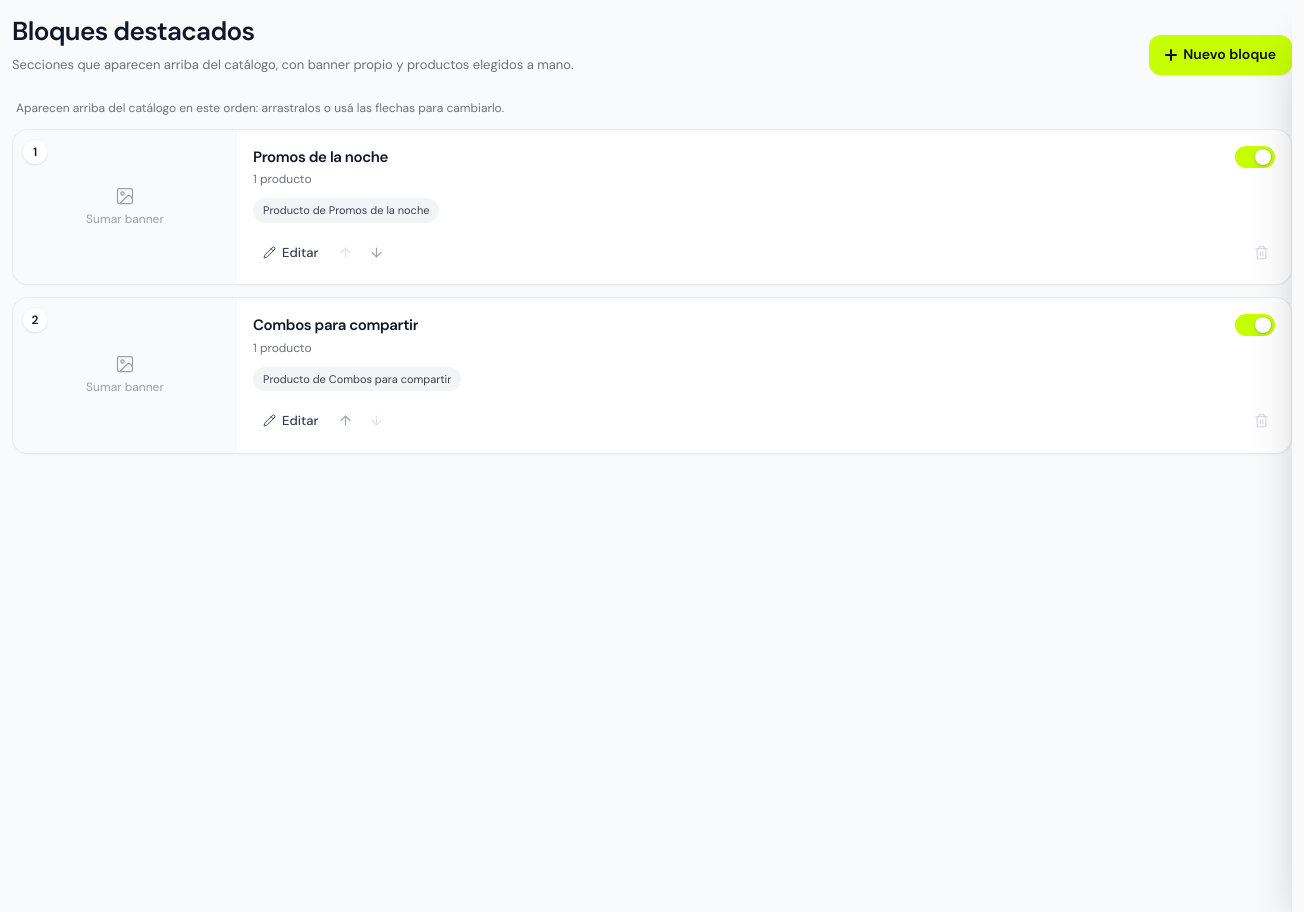
Test: BlocksView › si no se puede guardar el orden, vuelve al anterior y avisa
Click the button named "Subir Combos para compartir": (346, 421) [332,407,359,434]
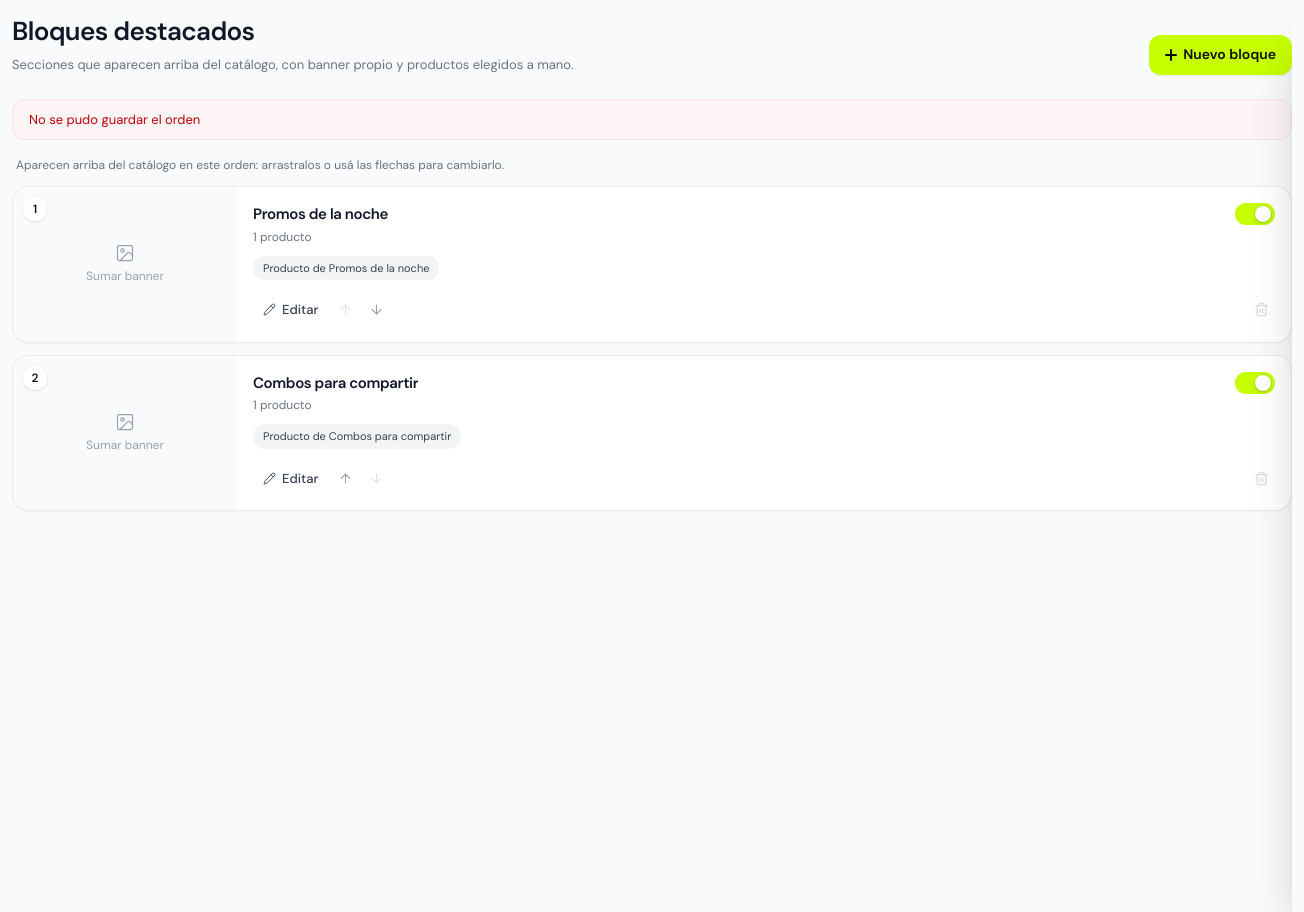
Expected: the list item that starts with "Sumar banner" shows "Promos de la noche", [253,203,388,226]
Expected: the text "No se pudo guardar el orden" is shown, [12,98,1292,140]
